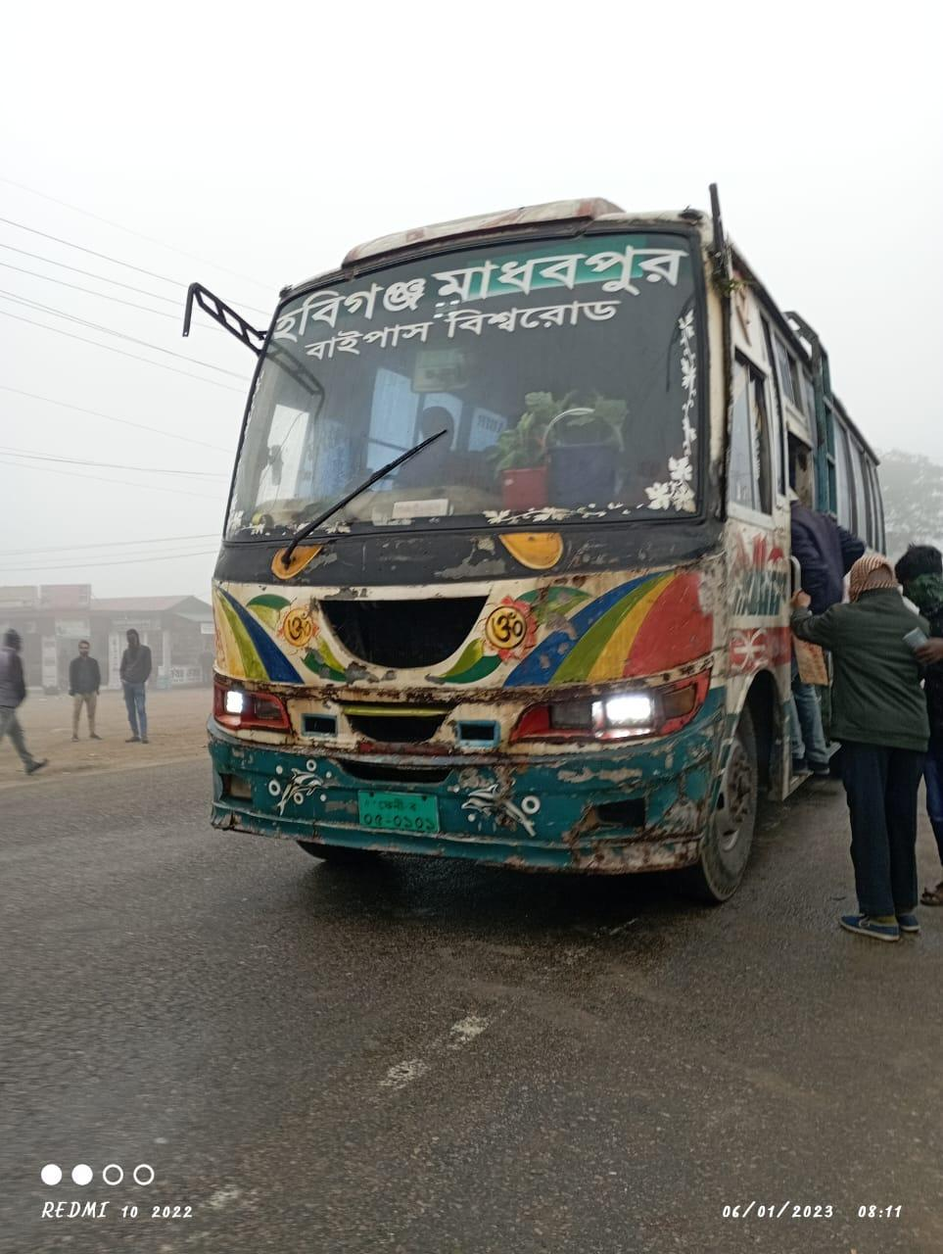Bus: (158, 169, 891, 922)
